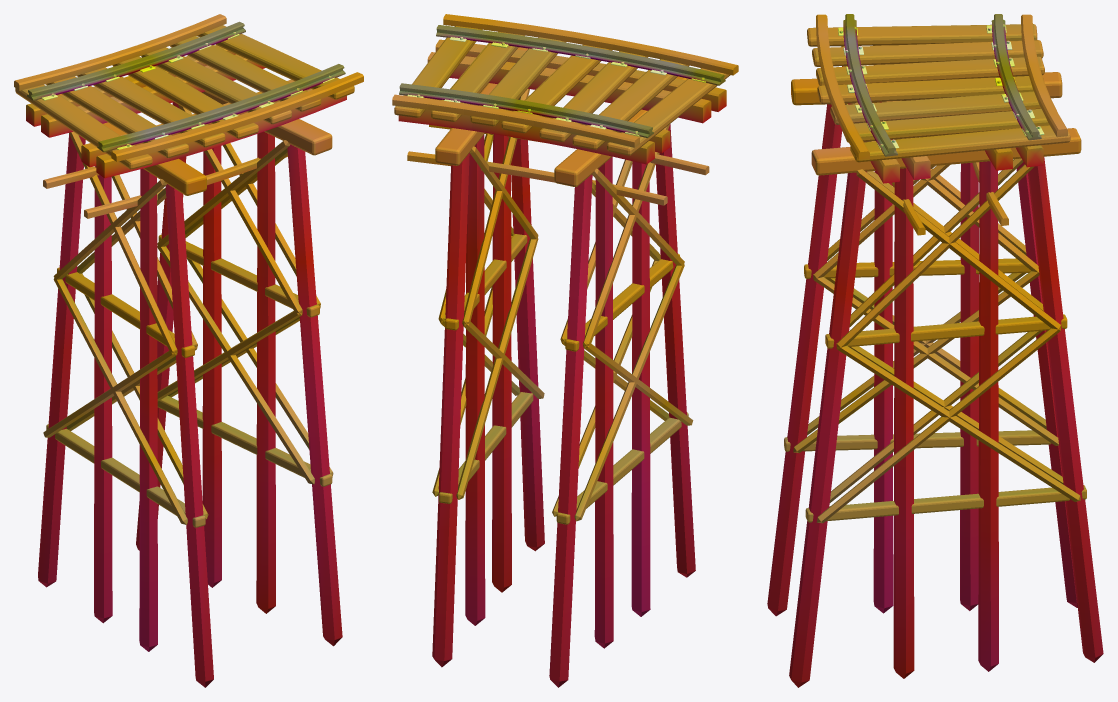
Rendered from Track_Bridge_Curve_R20_15_B.fbx.
3 renders of one model, left to right at view 1: azimuth 30°, elevation 25°; view 2: azimuth 150°, elevation 25°; view 3: azimuth 270°, elevation 25°, orthographic. The views are drawn at different scales.
Visible parts, largest first — view 1: Track_Bridge_Curve_R20_15_B; view 2: Track_Bridge_Curve_R20_15_B; view 3: Track_Bridge_Curve_R20_15_B.
Boxes of the visible parts, x1,y1,x2,y2 form: Track_Bridge_Curve_R20_15_B: (14,14,363,687); Track_Bridge_Curve_R20_15_B: (392,14,738,687); Track_Bridge_Curve_R20_15_B: (767,14,1103,687).
Bounding box in the file's own units: 5.66 × 10.85 × 5.83.
